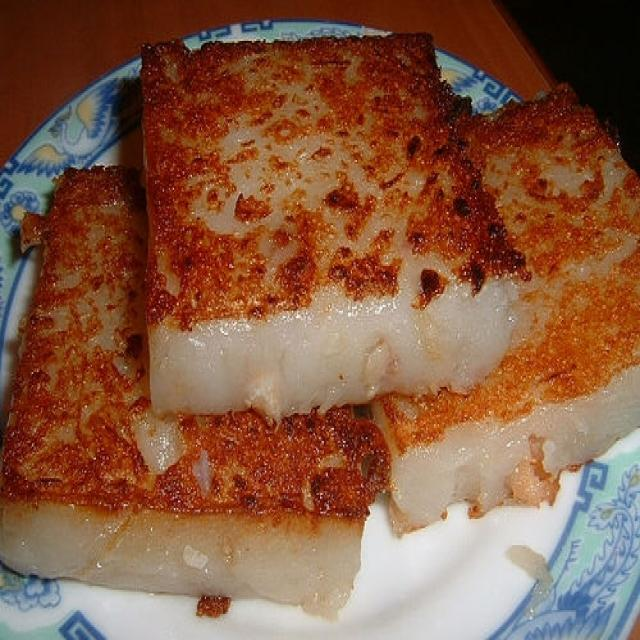蛋糕甜品: (19, 28, 631, 610)
